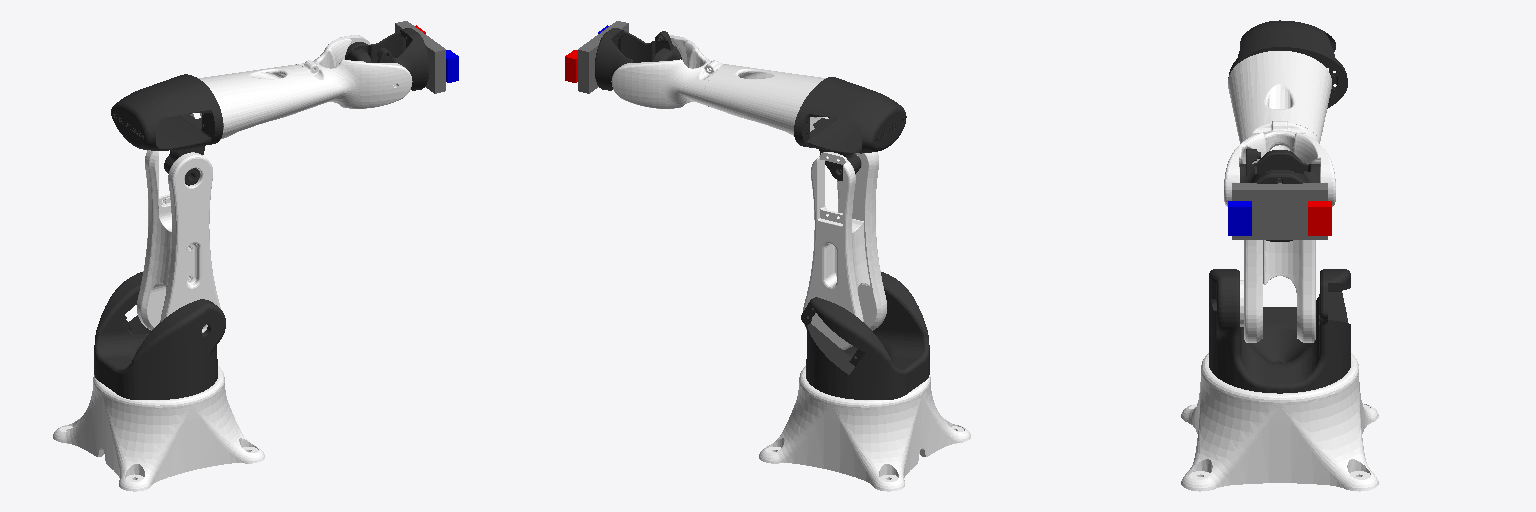
robot.urdf — arm:
<?xml version="1.0" encoding="utf-8"?>
<!-- This URDF was automatically created by SolidWorks to URDF Exporter! Originally created by [author] ([email redacted]) 
     Commit Version: 1.6.0-1-g15f4949  Build Version: 1.6.7594.29634
     For more information, please see http://wiki.ros.org/sw_urdf_exporter -->
<robot
  name="arm">
  <link name="world"/>
  <joint name="base_joint" type="fixed">
    <parent link="world"/>
    <child link="base_link"/>
    <origin rpy="0 0 0" xyz="0 0 0"/>
  </joint>
  <link
    name="base_link">
    <inertial> 
      <origin
        xyz="0 0 0.03"
        rpy="1.5708 0 0" />
      <mass
        value="0.25616" />
      <inertia
        ixx="0.00037145"
        ixy="-8.62E-10"
        ixz="-2.7907E-10"
        iyy="0.00058726"
        iyz="-2.0838E-06"
        izz="0.00037738" />
    </inertial>
    <visual>
      <origin
        xyz="0 0 0"
        rpy="0 0 1.5708" />
      <geometry>
        <mesh
          filename="package://robotic_arm_urdf/meshes/base_link.STL" />
      </geometry>
      <material
        name="White">
        <color rgba="1 1 1 1"/>
      </material>
    </visual>
    <collision>
      <origin
        xyz="0 0 0"
        rpy="0 0 1.5708"/>
      <geometry>
        <mesh
          filename="package://robotic_arm_urdf/meshes/base_link.STL" />
      </geometry>
    </collision>
  </link>
  <link
    name="link_1">
    <inertial>
      <origin
        xyz="0 0 0.035"
        rpy="1.8 -0.17 0" />
      <mass
        value="0.20779" />
      <inertia
        ixx="0.0001674"
        ixy="1.3842E-05"
        ixz="3.3414E-06"
        iyy="0.00024041"
        iyz="-3.685E-06"
        izz="0.0002295" />
    </inertial>
    <visual>
      <origin
        xyz="0 0 0"
        rpy="1.5708 0 1.5708" />
      <geometry>
        <mesh
          filename="package://robotic_arm_urdf/meshes/link_1.STL" />
      </geometry>
      <material
        name="dark_gray">
        <color
          rgba="0.25098 0.25098 0.25098 1" />
      </material>
    </visual>
    <collision>
      <origin
        xyz="0 0 0"
        rpy="1.5708 0 1.5708" />
      <geometry>
        <mesh
          filename="package://robotic_arm_urdf/meshes/link_1.STL" />
      </geometry>
    </collision>
  </link>
  <joint
    name="joint_1"
    type="revolute">
    <origin
      xyz="0 0 0.059913"
      rpy="0 0 0" />
    <parent
      link="base_link" />
    <child
      link="link_1" />
    <axis
      xyz="0 0 1" />
    <limit
      lower="-1.57"
      upper="1.57"
      effort="1.177"
      velocity="1" />
  </joint>
  <link
    name="link_2">
    <inertial>
      <origin
        xyz="0.054 0 0"
        rpy="0 0 1.5708" />
      <mass
        value="0.13588" />
      <inertia
        ixx="0.00024105"
        ixy="-5.2785E-07"
        ixz="-4.9787E-12"
        iyy="2.2277E-05"
        iyz="-2.6534E-11"
        izz="0.00023285" />
    </inertial>
    <visual>
      <origin
        xyz="0 0 0"
        rpy="0 -1.5708 -1.5708" />
      <geometry>
        <mesh
          filename="package://robotic_arm_urdf/meshes/link_2.STL" />
      </geometry>
      <material
        name="white">
        <color
          rgba="1 1 1 1" />
      </material>
    </visual>
    <collision>
      <origin
        xyz="0 0 0"
        rpy="0 -1.5708 -1.5708" />
      <geometry>
        <mesh
          filename="package://robotic_arm_urdf/meshes/link_2.STL" />
      </geometry>
    </collision>
  </link>
  <joint
    name="joint_2"
    type="revolute">
    <origin
      xyz="0.017415 0 0.050054"
      rpy="-1.5708 -1.5708 0" />
    <parent
      link="link_1" />
    <child
      link="link_2" />
    <axis
      xyz="0 0 1" />
    <limit
      lower="-1.57" 
      upper="1.95"
      effort="1.176"
      velocity="1" />   <!-- U: -0.52, L: 2.00 -->
      </joint>
  <link
    name="link_3">
    <inertial>
      <origin
        xyz="0.028 -0.003 0"
        rpy="0.87 0 -1.4" />
      <mass
        value="0.071846" />
      <inertia
        ixx="5.3637E-05"
        ixy="-1.7864E-06"
        ixz="1.2909E-06"
        iyy="4.2179E-05"
        iyz="3.3425E-06"
        izz="4.1886E-05" />
    </inertial>
    <visual>
      <origin
        xyz="0.04275 0.02 0"
        rpy="0 -1.5708 -1.5708" />
      <geometry>
        <mesh
          filename="package://robotic_arm_urdf/meshes/link_3.STL" />
      </geometry>
      <material
        name="dark_gray">
        <color
          rgba="0.25098 0.25098 0.25098 1" />
      </material>
    </visual>
    <collision>
      <origin
        xyz="0.04275 0.02 0"
        rpy="0 -1.5708 -1.5708" />
      <geometry>
        <mesh
          filename="package://robotic_arm_urdf/meshes/link_3.STL" />
      </geometry>
    </collision>
  </link>
  <joint
    name="joint_3"
    type="revolute">
    <origin
      xyz="0.120 0 0"
      rpy="0 0 0" />
    <parent
      link="link_2" />
    <child
      link="link_3" />
    <axis
      xyz="0 0 1" />
    <limit
      lower="-1.57"
      upper="1.57"
      effort="1.15"
      velocity="1" />
      </joint>
  <link
    name="link_4">
    <inertial>
      <origin
        xyz="0 0 0.067"
        rpy="0 0.17 -1.5708" />
      <mass
        value="0.15537" />
      <inertia
        ixx="0.00024751"
        ixy="-1.1572E-06"
        ixz="3.1937E-05"
        iyy="0.00027619"
        iyz="6.9992E-06"
        izz="5.2464E-05" />
    </inertial>
    <visual>
      <origin
        xyz="0 0 0"
        rpy="0 0 -1.5708" />
      <geometry>
        <mesh
          filename="package://robotic_arm_urdf/meshes/link_4.STL" />
      </geometry>
      <material
        name="white">
        <color
          rgba="1 1 1 1" />
      </material>
    </visual>
    <collision>
      <origin
        xyz="0 0 0"
        rpy="0 0 -1.5708" />
      <geometry>
        <mesh
          filename="package://robotic_arm_urdf/meshes/link_4.STL" />
      </geometry>
    </collision>
  </link>
  <joint
    name="joint_4"
    type="revolute">
    <origin
      xyz="0.04275 0.02 0"
      rpy="-1.5708 0 0" />
    <parent
      link="link_3" />
    <child
      link="link_4" />
    <axis
      xyz="0 0 1" />
    <limit
      lower="-1.57"
      upper="1.57"
      effort="1.15"
      velocity="1" />
      </joint>
  <link
    name="link_5">
    <inertial>
      <origin
        xyz="0 0.01 0"
        rpy="0 0 1.5708" />
      <mass
        value="0.034272" />
      <inertia
        ixx="1.6028E-05"
        ixy="1.5779E-07"
        ixz="1.2797E-08"
        iyy="1.9491E-05"
        iyz="2.3501E-07"
        izz="1.0217E-05" />
    </inertial>
    <visual>
      <origin
        xyz="0 0.038 0"
        rpy="0 -1.5708 -1.5708" />
      <geometry>
        <mesh
          filename="package://robotic_arm_urdf/meshes/link_5.STL" />
      </geometry>
      <material
        name="dark_gray">
        <color
          rgba="0.25098 0.25098 0.25098 1" />
      </material>
    </visual>
    <collision>
      <origin
        xyz="0 0.038 0"
        rpy="0 -1.5708 -1.5708" />
      <geometry>
        <mesh
          filename="package://robotic_arm_urdf/meshes/link_5.STL" />
      </geometry>
    </collision>
  </link>
  <joint
    name="joint_5"
    type="revolute">
    <origin
      xyz="0 0 0.150"
      rpy="1.5708 0 0" />
    <parent
      link="link_4" />
    <child
      link="link_5" />
    <axis
      xyz="0 0 1" />
    <limit
      lower="-1.57"
      upper="1.57"
      effort="0.14"
      velocity="1" />
    </joint>


  <!-- gripper -->
    <link name="gripper_base">
    <visual>
      <geometry>
        <box size="0.035 0.010 0.06"/>
      </geometry>
      <material name="gray">
        <color rgba="0.5 0.5 0.5 1.0"/>
      </material>
    </visual>
  </link>

  <link name="left_finger">
    <visual>
      <geometry>
        <box size="0.02 0.01 0.015"/>
      </geometry>
      <material name="red">
        <color rgba="1.0 0.0 0.0 1.0"/>
      </material>
    </visual>
  </link>

  <link name="right_finger">
    <visual>
      <geometry>
        <box size="0.02 0.01 0.015"/>
      </geometry>
      <material name="blue">
        <color rgba="0.0 0.0 1.0 1.0"/>
      </material>
    </visual>
  </link>

  <!-- Joints to connect gripper to arm -->
  <joint name="arm_to_gripper" type="fixed">
    <parent link="link_5"/>
    <child link="gripper_base"/>
    <origin xyz="0 00.042 0.0"/> <!-- Adjust based on your arm's length -->
  </joint>

  <joint name="left_joint" type="prismatic">
    <parent link="gripper_base"/>
    <child link="left_finger"/>
    <origin xyz="0 0.01 0.025" rpy="0 0 0"/>
    <axis xyz="0 0 -1"/>
    <limit lower="0" upper="0.015" effort="10" velocity="1"/>
  </joint>

  <joint name="right_joint" type="prismatic">
    <parent link="gripper_base"/>
    <child link="right_finger"/>
    <origin xyz="0 0.01 -0.025" rpy="0 0 0"/>
    <axis xyz="0 0 1"/>
    <limit lower="0" upper="0.015" effort="10" velocity="1"/>
  </joint>

  <transmission name="link_1_trans">
    <type>transmission_interface/SimpleTransmission</type>
    <joint name="joint_1">
      <hardwareInterface>hardware_interface/PositionJointInterface</hardwareInterface>
    </joint>
    <actuator name="link_1_motor">
      <hardwareInterface>hardware_interface/PositionJointInterface</hardwareInterface>
      <mechanicalReduction>1</mechanicalReduction>
    </actuator>
  </transmission>
  <transmission name="link_2_trans">
    <type>transmission_interface/SimpleTransmission</type>
    <joint name="joint_2">
      <hardwareInterface>hardware_interface/PositionJointInterface</hardwareInterface>
    </joint>
    <actuator name="link_2_motor">
      <hardwareInterface>hardware_interface/PositionJointInterface</hardwareInterface>
      <mechanicalReduction>1</mechanicalReduction>
    </actuator>
  </transmission>
  <transmission name="link_3_trans">
    <type>transmission_interface/SimpleTransmission</type>
    <joint name="joint_3">
      <hardwareInterface>hardware_interface/PositionJointInterface</hardwareInterface>
    </joint>
    <actuator name="link_3_motor">
      <hardwareInterface>hardware_interface/PositionJointInterface</hardwareInterface>
      <mechanicalReduction>1</mechanicalReduction>
    </actuator>
  </transmission>
  <transmission name="link_4_trans">
    <type>transmission_interface/SimpleTransmission</type>
    <joint name="joint_4">
      <hardwareInterface>hardware_interface/PositionJointInterface</hardwareInterface>
    </joint>
    <actuator name="link_4_motor">
      <hardwareInterface>hardware_interface/PositionJointInterface</hardwareInterface>
      <mechanicalReduction>1</mechanicalReduction>
    </actuator>
  </transmission>
  <transmission name="link_5_trans">
    <type>transmission_interface/SimpleTransmission</type>
    <joint name="joint_5">
      <hardwareInterface>hardware_interface/PositionJointInterface</hardwareInterface>
    </joint>
    <actuator name="link_5_motor">
      <hardwareInterface>hardware_interface/PositionJointInterface</hardwareInterface>
      <mechanicalReduction>1</mechanicalReduction>
    </actuator>
  </transmission> 
  <gazebo>
    <!--<plugin filename="libgazebo_ros_control.so" name="control">
      <robotNamespace>/</robotNamespace>
    </plugin>-->
    <plugin filename="libgazebo_ros_control.so" name="gazebo_ros_control">
      <robotNamespace>/</robotNamespace>
    </plugin>
  </gazebo>
  <gazebo reference="link_1">
    <selfCollide>true</selfCollide>
    <material>Gazebo/DarkGray</material>
  </gazebo>
  <gazebo reference="link_2">
    <selfCollide>true</selfCollide>
    <material>Gazebo/White</material>
  </gazebo>
  <gazebo reference="link_3">
    <selfCollide>true</selfCollide>
    <material>Gazebo/DarkGray</material>
  </gazebo>
  <gazebo reference="link_4">
    <selfCollide>true</selfCollide>
    <material>Gazebo/White</material>
  </gazebo>
  <gazebo reference="link_5">
    <selfCollide>true</selfCollide>
    <material>Gazebo/DarkGray</material>
  </gazebo>
</robot>

--- What the picture shows (computed from the rendered views, not written in the file) ---
The picture shows the robot from 3 angles, left to right: view 1: azimuth 30°, elevation 25°; view 2: azimuth 150°, elevation 25°; view 3: azimuth 270°, elevation 25°; orthographic projection.
Robot: arm — 10 links, 9 joints (5 revolute, 2 prismatic, 2 fixed); root link world; default pose: all joints at 0.
Links seen in each view (by area): view 1: base_link, link_1, link_4, link_2, link_3, link_5, gripper_base; view 2: base_link, link_1, link_2, link_4, link_3, link_5, gripper_base; view 3: base_link, link_1, link_4, link_2, gripper_base, link_3, link_5, left_finger, right_finger.
Boxes of the visible links, x1,y1,x2,y2 form: base_link: (53, 366, 264, 491); link_1: (94, 272, 225, 399); link_4: (190, 35, 412, 139); link_2: (137, 150, 220, 332); link_3: (111, 74, 223, 185); link_5: (345, 28, 428, 90); gripper_base: (395, 21, 445, 93); base_link: (759, 366, 970, 491); link_1: (801, 272, 929, 399); link_2: (803, 152, 886, 349); link_4: (611, 35, 828, 135); link_3: (794, 77, 906, 180); link_5: (595, 28, 681, 90); gripper_base: (578, 21, 628, 93); base_link: (1181, 353, 1378, 491); link_1: (1209, 269, 1350, 393); link_4: (1224, 51, 1335, 206); link_2: (1240, 240, 1315, 342); gripper_base: (1232, 183, 1327, 239); link_3: (1228, 20, 1347, 108); link_5: (1240, 149, 1319, 241); left_finger: (1308, 201, 1331, 235); right_finger: (1228, 201, 1251, 235).
Bounding box of the posed robot: 0.3069 × 0.125 × 0.2977 m (x, y, z).
Meshes: 6 distinct files referenced, 6 mesh visuals loaded (6 binary STL).
